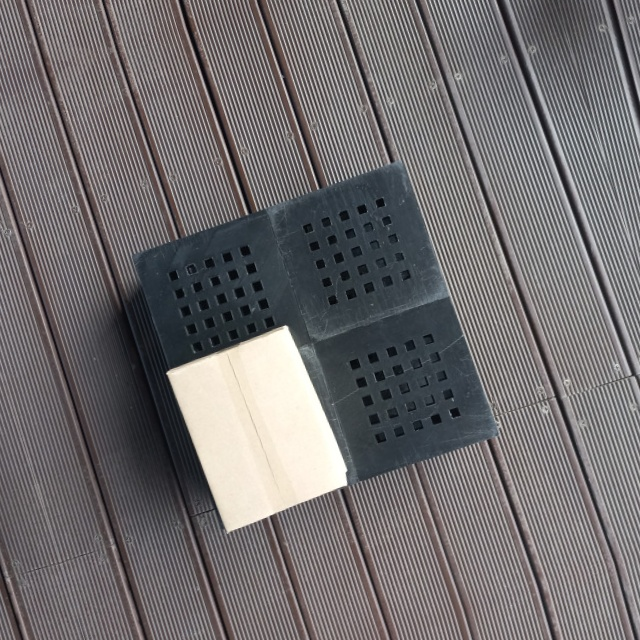box: (163, 319, 348, 537)
pallet: (121, 149, 506, 522)
